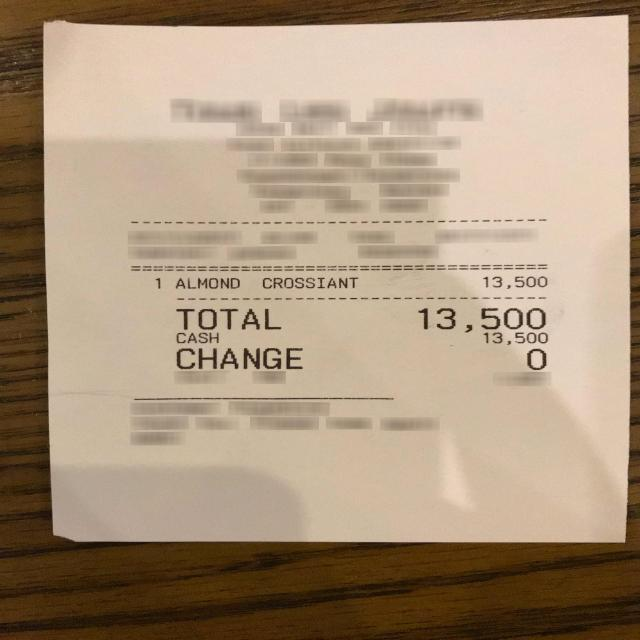kertas: (43, 16, 630, 546)
